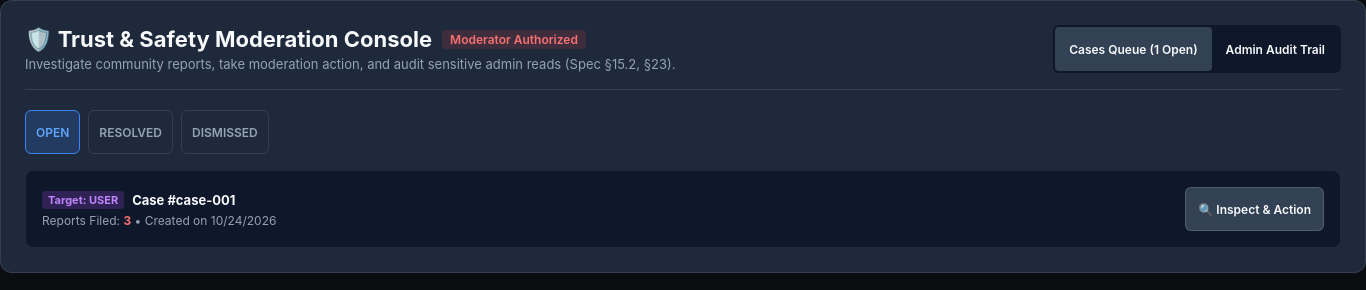
Test: ModerationConsole Component (Spec §15.2, §23) › fetches audit trail with mandatory reason
The image size is (1366, 290).
Note: Switch to audit tab
Click the button "Admin Audit Trail" at point(1275, 49), box [1212,27,1339,71]
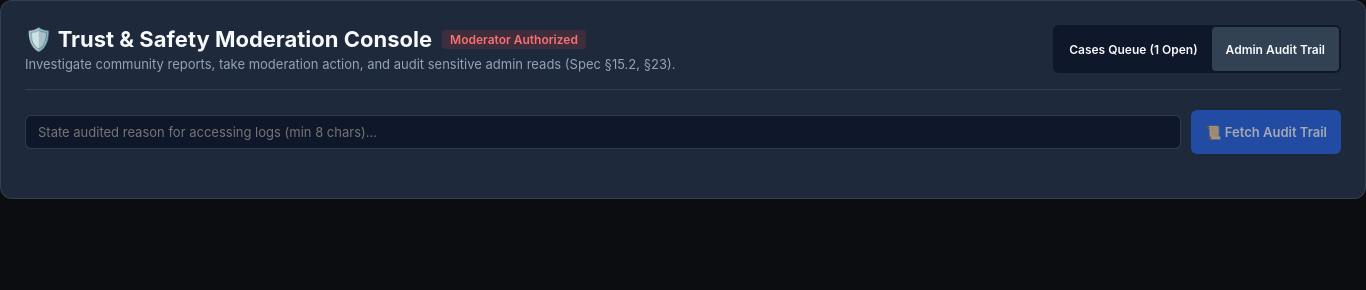
Type "Routine weekly audit check" into the field named "Audit Access Reason" at point(603, 132), box [25,115,1181,149]
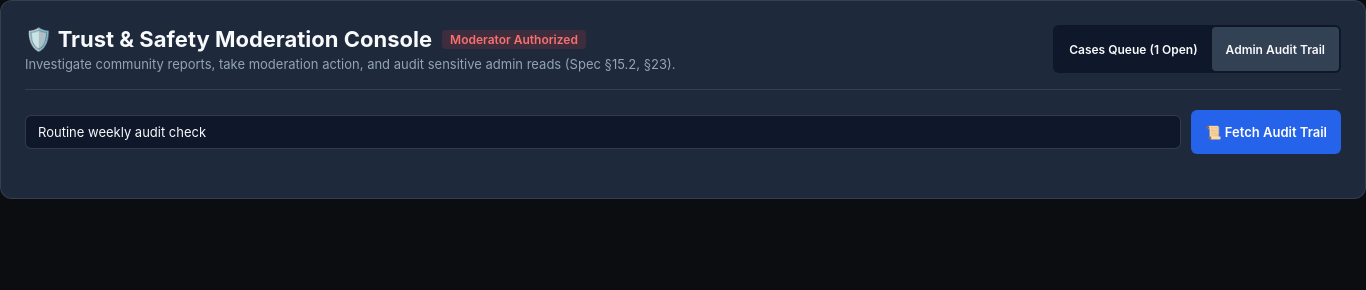
Click the button "📜 Fetch Audit Trail" at point(1266, 132), box [1191,110,1341,154]
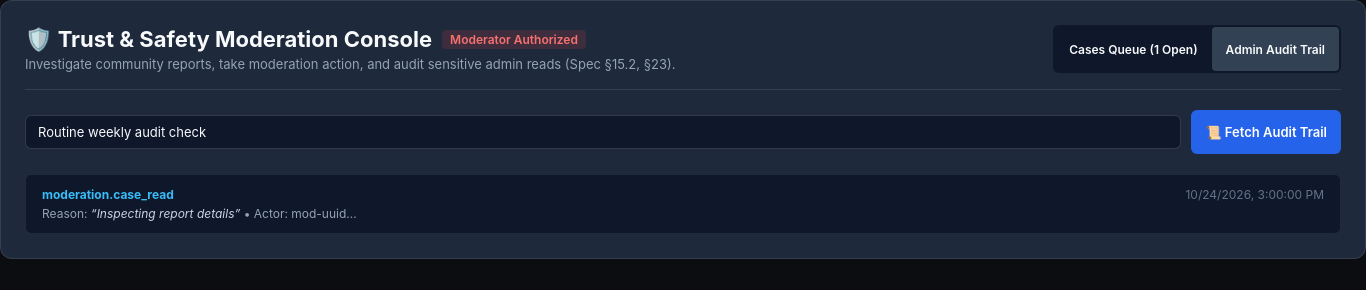
Check: the text "moderation.case_read" is shown, box [42,187,174,202]
